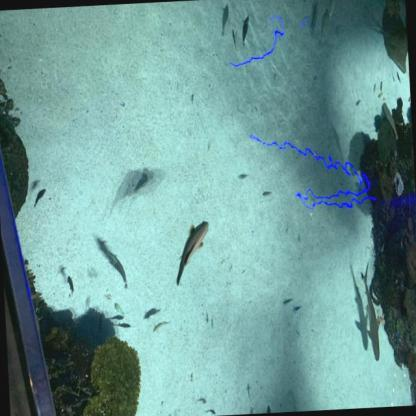fish: (171, 218, 214, 289), (105, 251, 130, 292), (238, 13, 252, 50), (318, 7, 331, 46), (308, 1, 321, 39), (31, 187, 48, 211), (150, 319, 172, 335), (325, 0, 340, 21), (220, 5, 229, 35), (112, 301, 127, 319), (134, 172, 149, 190), (65, 274, 75, 298), (291, 303, 304, 315), (113, 322, 132, 330), (260, 190, 274, 199), (264, 402, 274, 413), (396, 70, 402, 86), (190, 93, 196, 106), (354, 99, 362, 108), (377, 91, 386, 99), (407, 71, 409, 83)
shark: (360, 261, 382, 362)
